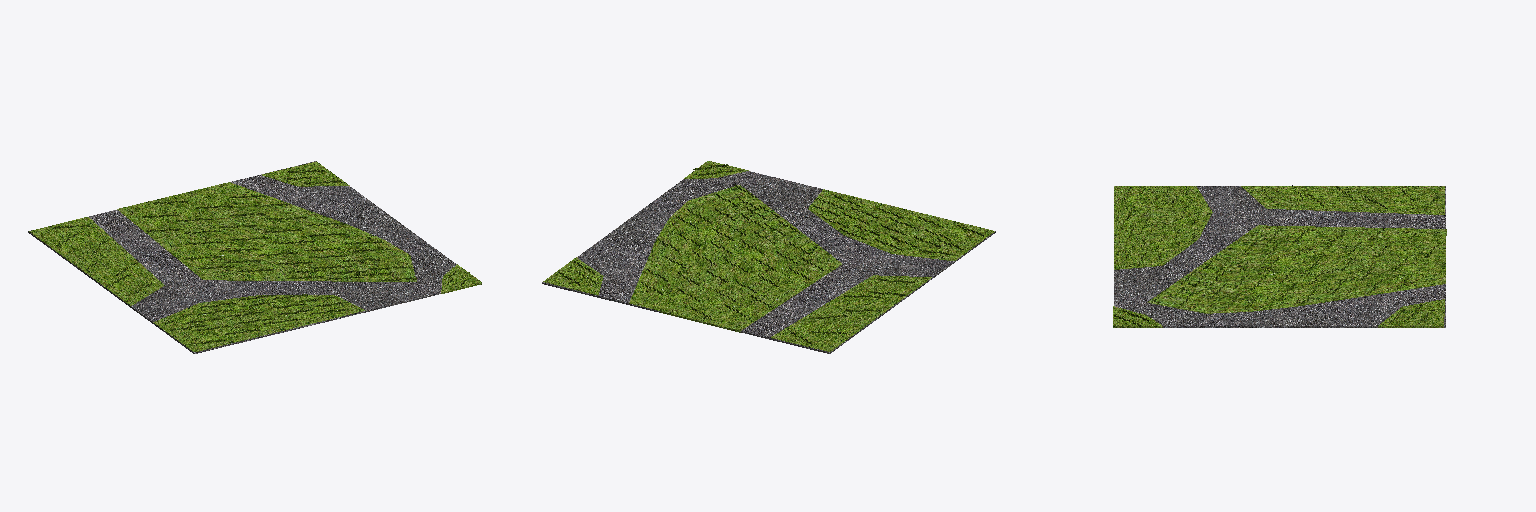
3 views of the same model, side by side, from view 1: azimuth 30°, elevation 25°; view 2: azimuth 150°, elevation 25°; view 3: azimuth 270°, elevation 25° (orthographic).
Visible parts, largest first — view 1: Box002, asphalt, Box003, Box004, Box005, Box006; view 2: Box002, asphalt, Box003, Box004, Box005, Box006; view 3: Box002, asphalt, Box003, Box004, Box005, Box006.
Part boxes in pixels (left/top/right/bottom): Box002: left=117, top=182, right=416, bottom=281; asphalt: left=28, top=161, right=456, bottom=353; Box003: left=153, top=295, right=365, bottom=351; Box004: left=29, top=217, right=164, bottom=305; Box005: left=262, top=161, right=349, bottom=186; Box006: left=441, top=264, right=481, bottom=293; Box002: left=629, top=185, right=841, bottom=332; asphalt: left=542, top=171, right=995, bottom=353; Box003: left=808, top=189, right=994, bottom=260; Box004: left=771, top=275, right=931, bottom=351; Box005: left=543, top=257, right=603, bottom=295; Box006: left=684, top=161, right=748, bottom=178; Box002: left=1147, top=225, right=1446, bottom=313; asphalt: left=1114, top=186, right=1445, bottom=327; Box003: left=1114, top=186, right=1212, bottom=269; Box004: left=1241, top=186, right=1444, bottom=214; Box005: left=1378, top=299, right=1444, bottom=327; Box006: left=1113, top=306, right=1162, bottom=327.
Bounding box in the file's own units: 2520 × 37.14 × 2510.
Materials: 3 (3 with a texture image).